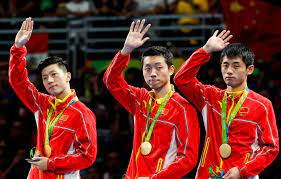person: (172, 23, 281, 179), (104, 17, 199, 179), (7, 14, 99, 179)
